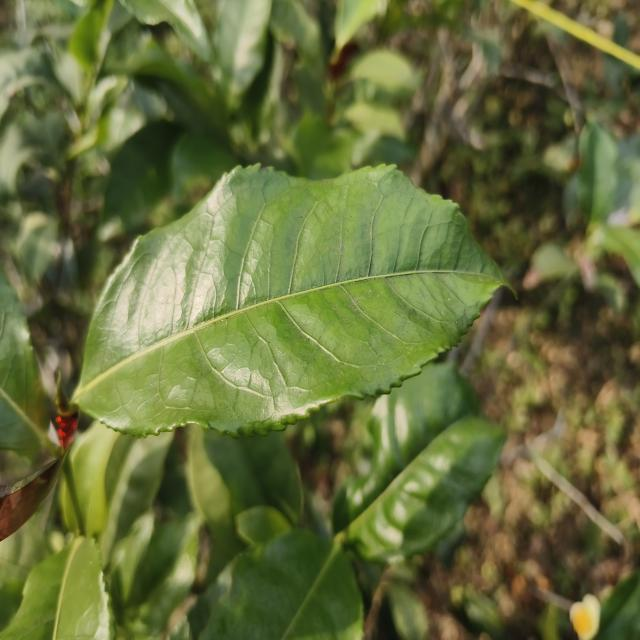Leaf: (73, 165, 506, 436), (333, 364, 504, 562), (197, 529, 363, 640), (186, 425, 302, 578), (108, 512, 201, 640), (0, 537, 114, 640), (98, 121, 180, 240), (100, 433, 173, 564), (0, 267, 49, 453), (62, 423, 120, 536), (215, 0, 271, 110), (122, 0, 210, 62), (577, 121, 618, 222), (0, 48, 52, 119), (14, 212, 60, 285), (69, 0, 112, 71), (349, 50, 418, 92), (335, 0, 386, 51), (523, 243, 578, 289), (599, 225, 640, 286), (387, 582, 428, 640), (235, 505, 292, 546), (344, 102, 404, 139)
